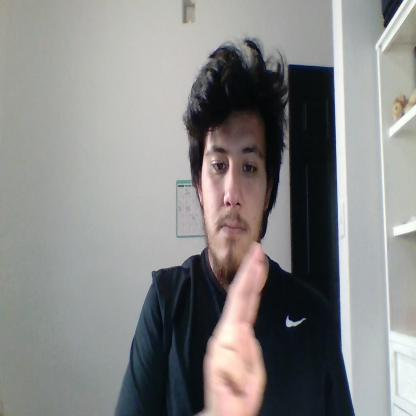R: (203, 242, 268, 415)
